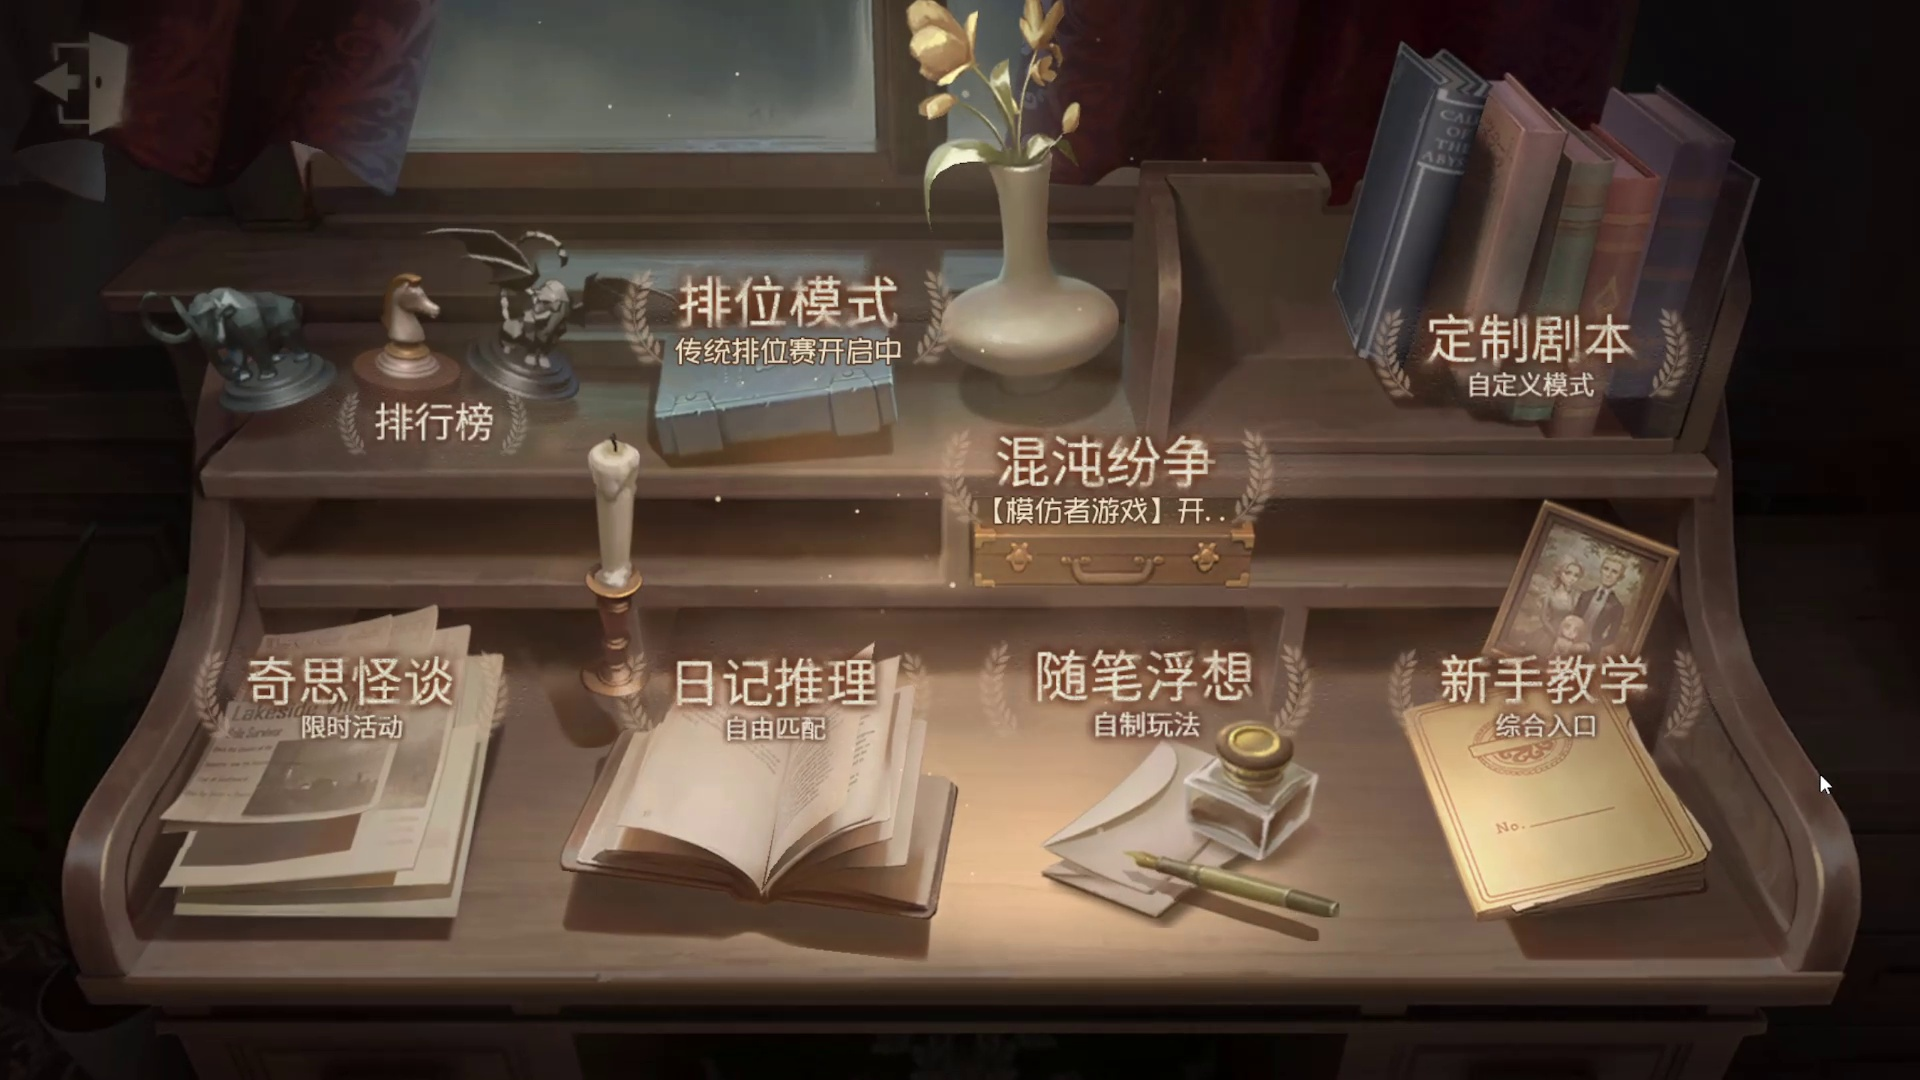自由匹配: (579, 608, 956, 913)
